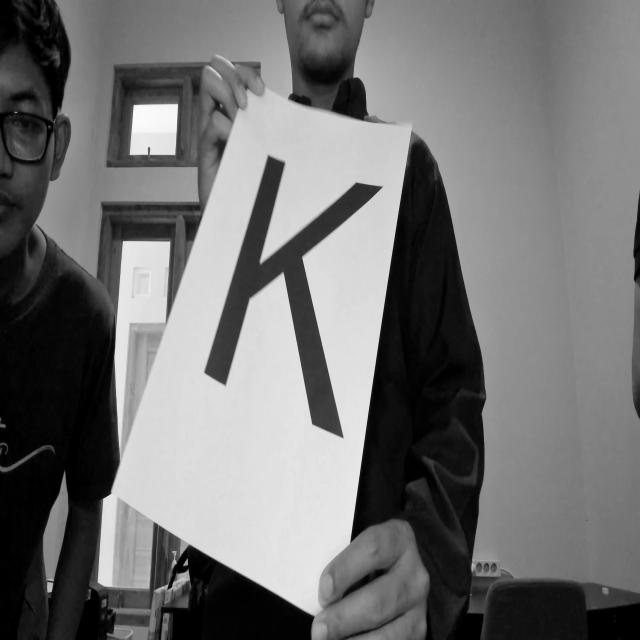k: (185, 139, 385, 449)
